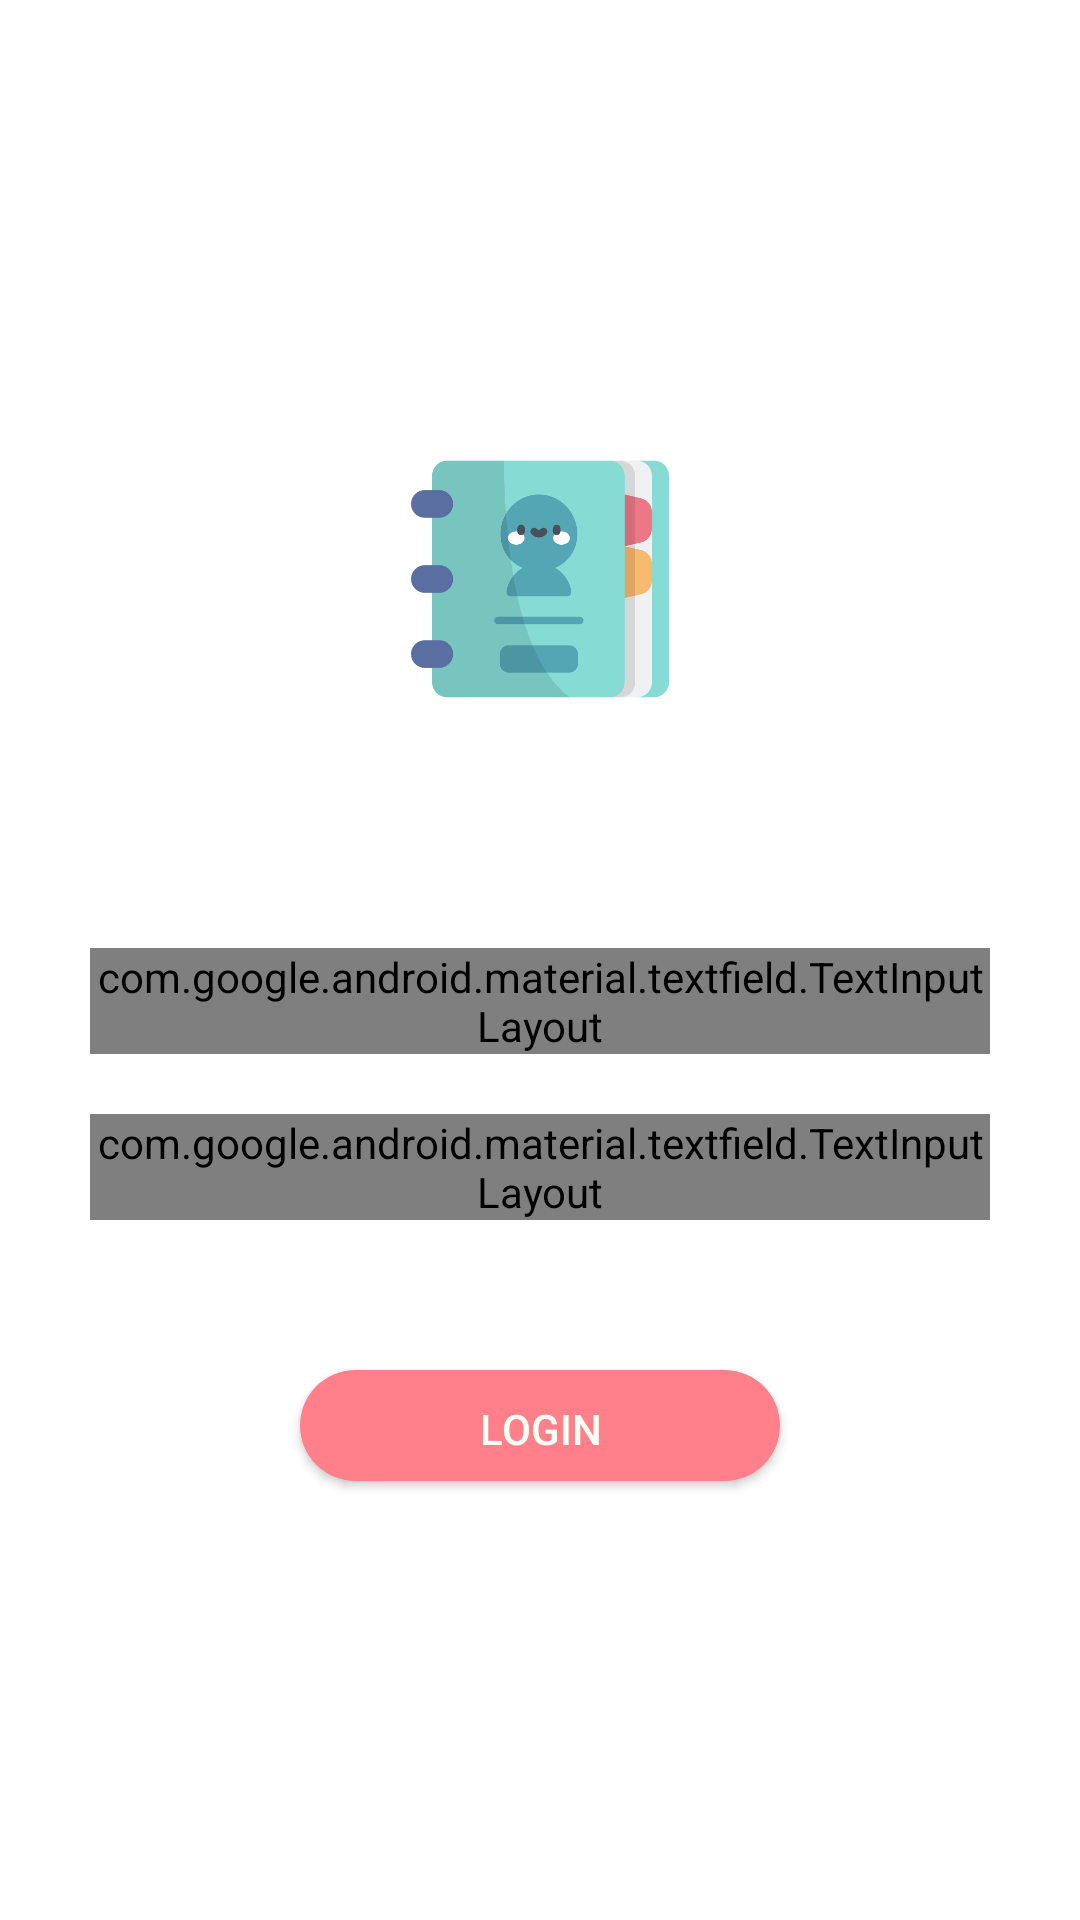

Icons on this 1080w x 1920h Android screen, each with the point to tap as [x,y]:
freepik agenda: [540,579]
